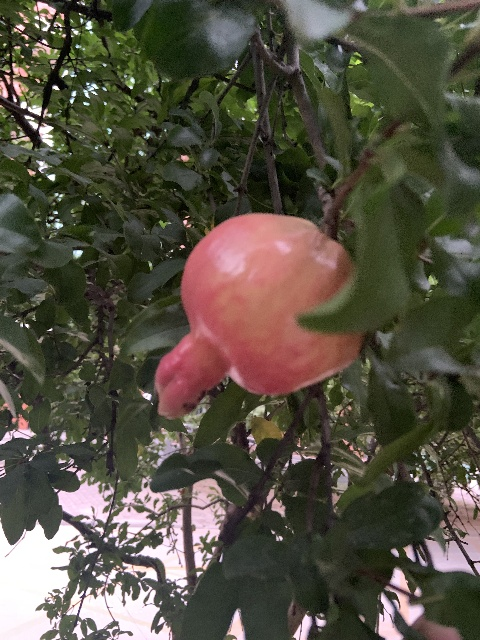ripe: (155, 212, 363, 418)
